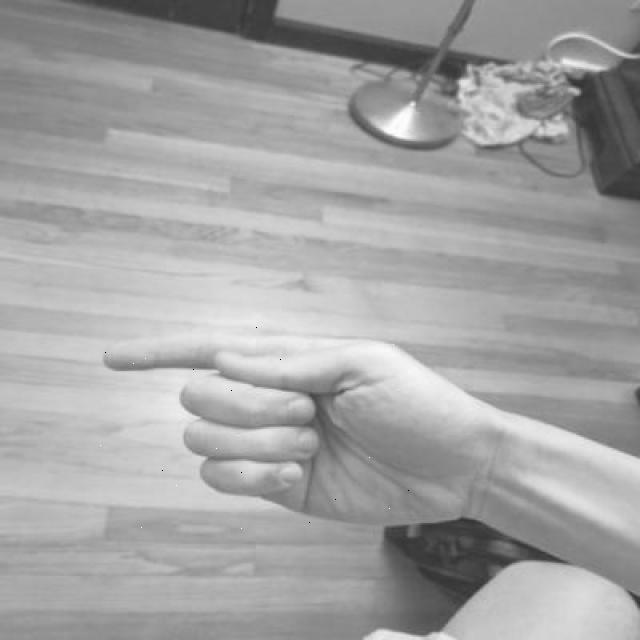G: (96, 325, 478, 533)
